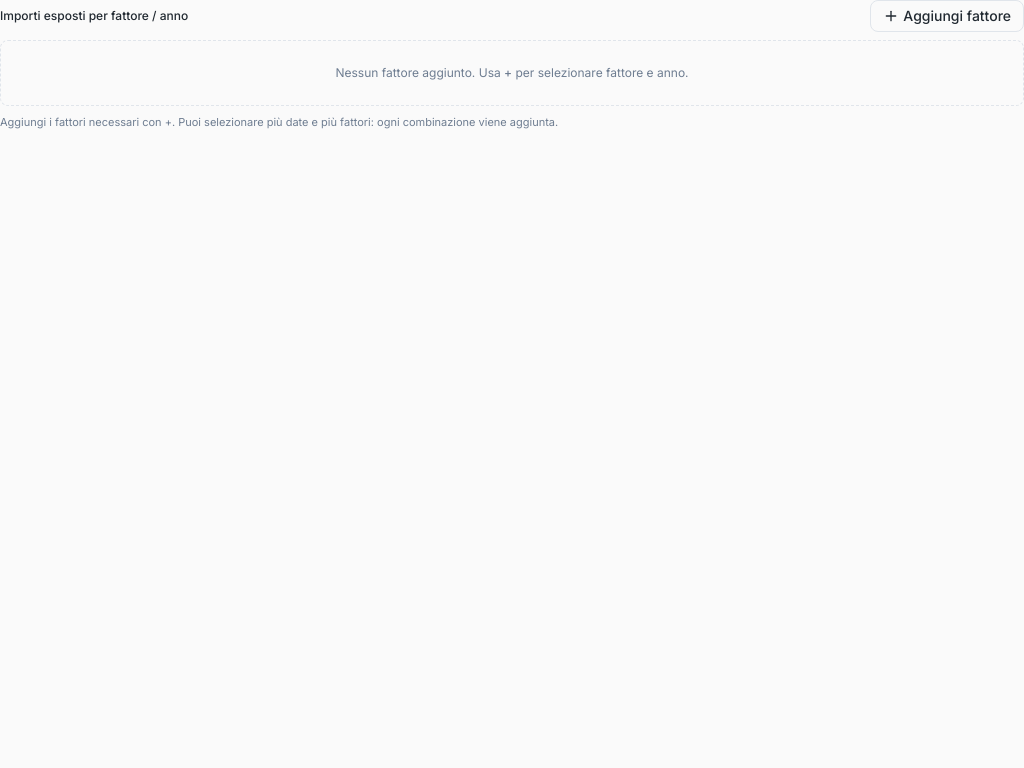
Scenario: RegolazioneFattoriImportiGrid dialog › mostra etichette italiane, date formattate e due Seleziona tutto
Click the button "Aggiungi fattore" at (947, 16), box x1=870 y1=0 x2=1023 y2=32
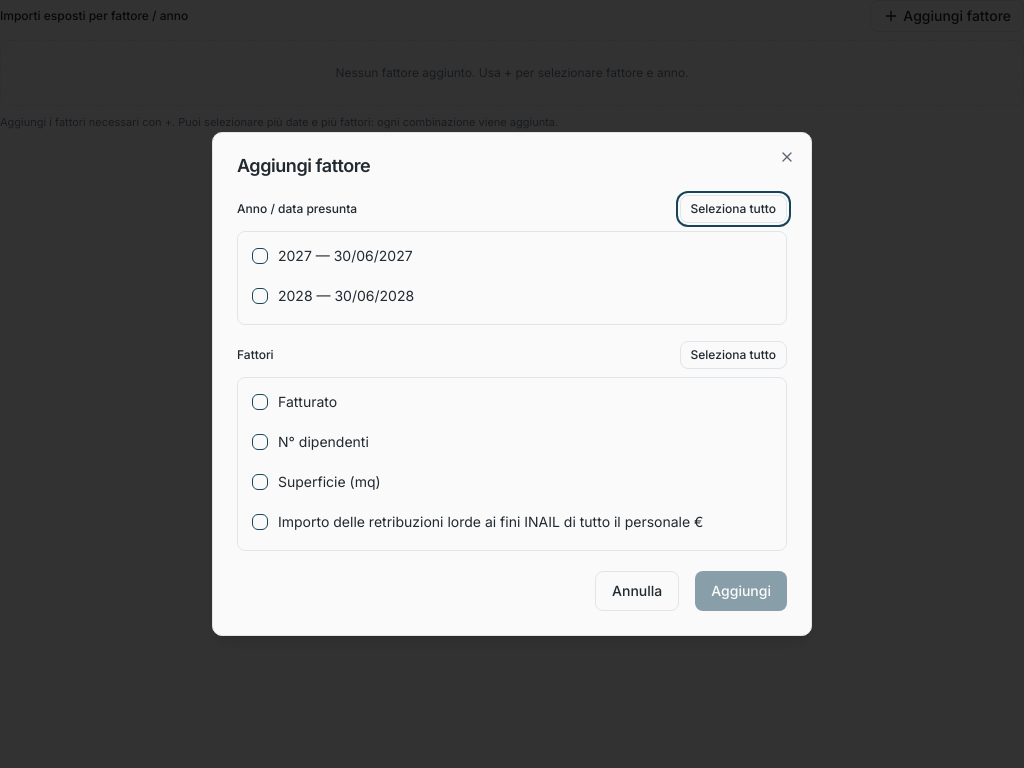
Result: the heading "Aggiungi fattore" is shown at x1=237 y1=155 x2=370 y2=176
Result: the number of buttons "Seleziona tutto" is 2 at x1=680 y1=195 x2=787 y2=223; x1=680 y1=341 x2=787 y2=369
Result: the button "Seleziona tutto" in the row of "Anno / data presunta" is shown at x1=680 y1=195 x2=787 y2=223
